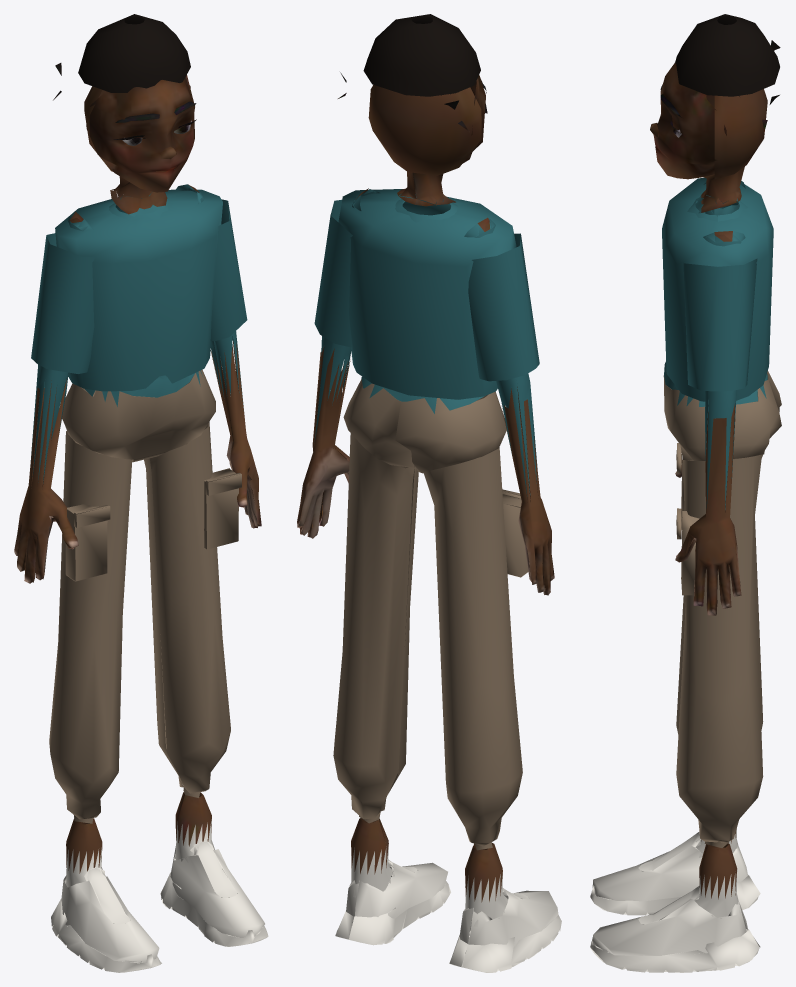
The model's file is resident-low.glb.
3 renders of one model, left to right at view 1: azimuth 30°, elevation 25°; view 2: azimuth 150°, elevation 25°; view 3: azimuth 270°, elevation 25°, orthographic. The views are drawn at different scales.
Visible parts, largest first — view 1: Civilian_Resident; view 2: Civilian_Resident; view 3: Civilian_Resident.
Boxes of the visible parts, <box> form: Civilian_Resident: <box>14,14,268,972</box>; Civilian_Resident: <box>297,14,561,972</box>; Civilian_Resident: <box>590,14,781,972</box>.
Bounding box in the file's own units: 0.4449 × 1.63 × 0.3107.
Materials: 5 (1 with a texture image).
